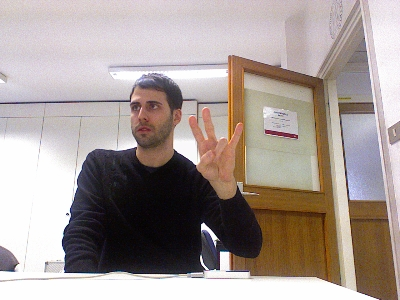观音: (186, 106, 244, 184)
